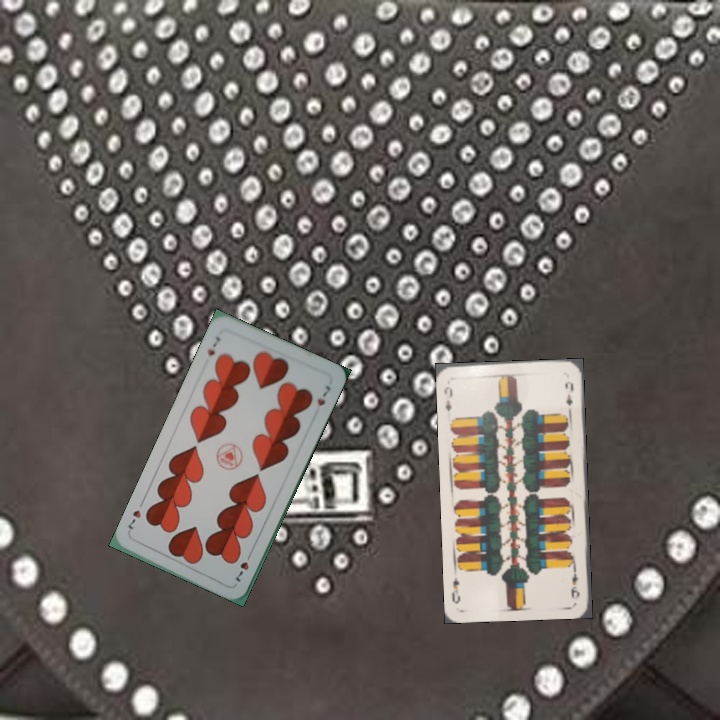E9: (567, 562, 582, 602), (440, 383, 455, 414)
H7: (232, 548, 255, 585), (203, 332, 223, 358)
